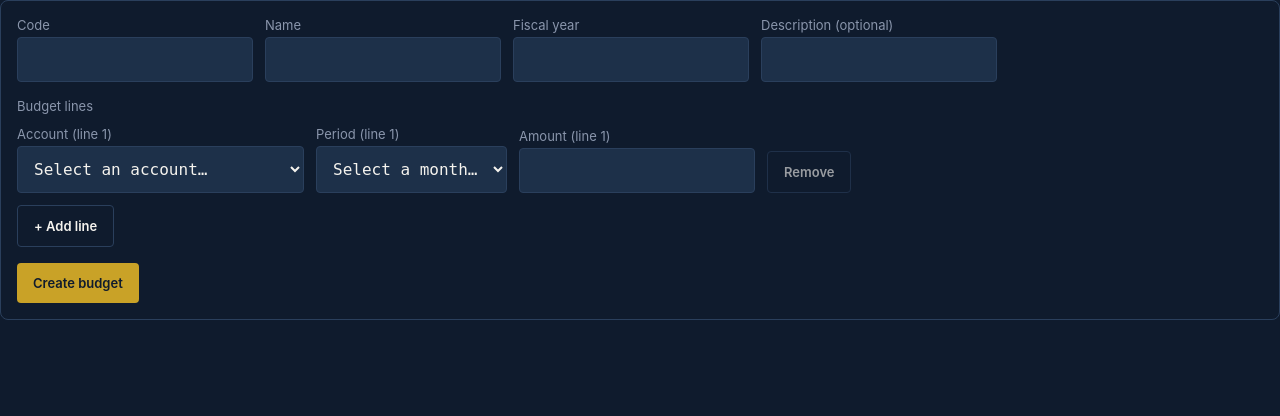
Test: CreateBudgetForm › removes a line when its own Remove button is clicked
This screenshot has width=1280, height=416.
Click the button "+ Add line". click: {"x": 66, "y": 226}
box: [17,205,114,247]
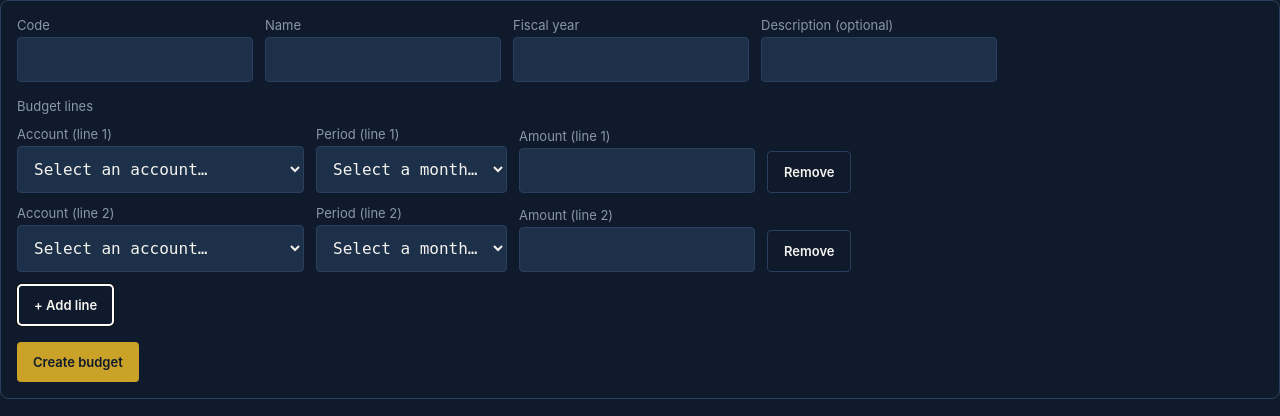
Expected: the dropdown labelled "Account (line 2)" is shown, [17,225,304,272]
Click the button "Remove" below "Amount (line 2)". click: {"x": 809, "y": 251}
box: [767,230,852,272]
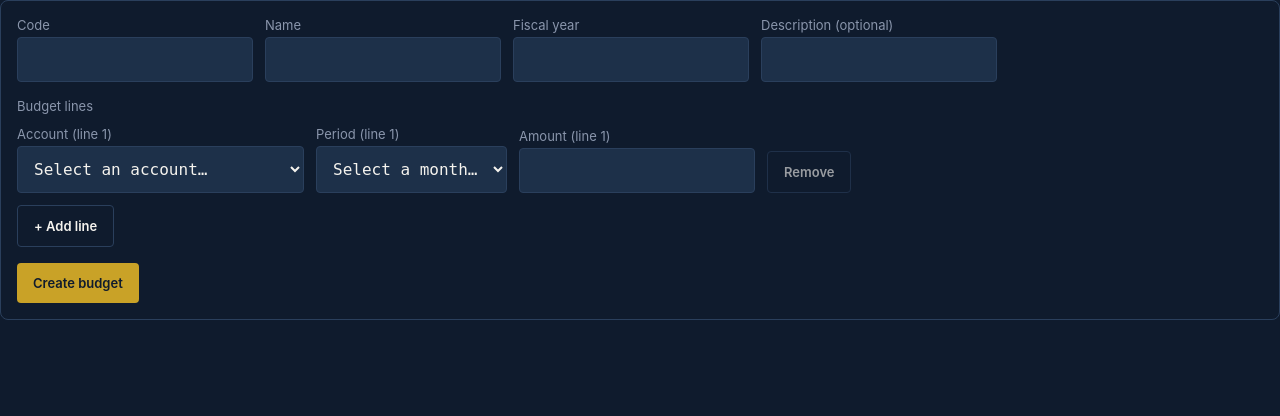
Expected: the label labelled "Account (line 2)" is gone
